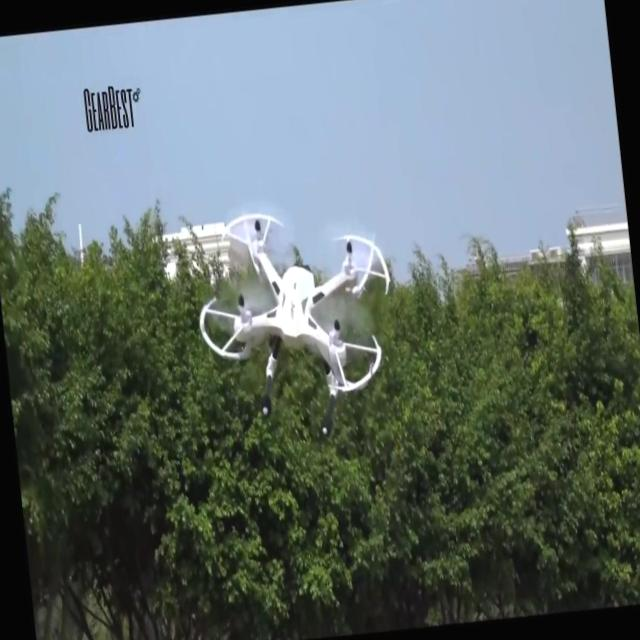drone: (187, 196, 406, 447)
